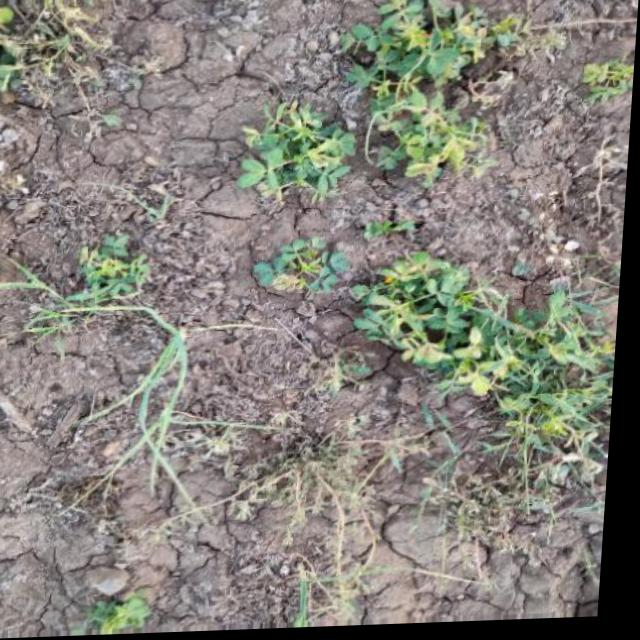weed: (25, 219, 232, 500), (358, 262, 605, 484), (235, 11, 522, 202)
